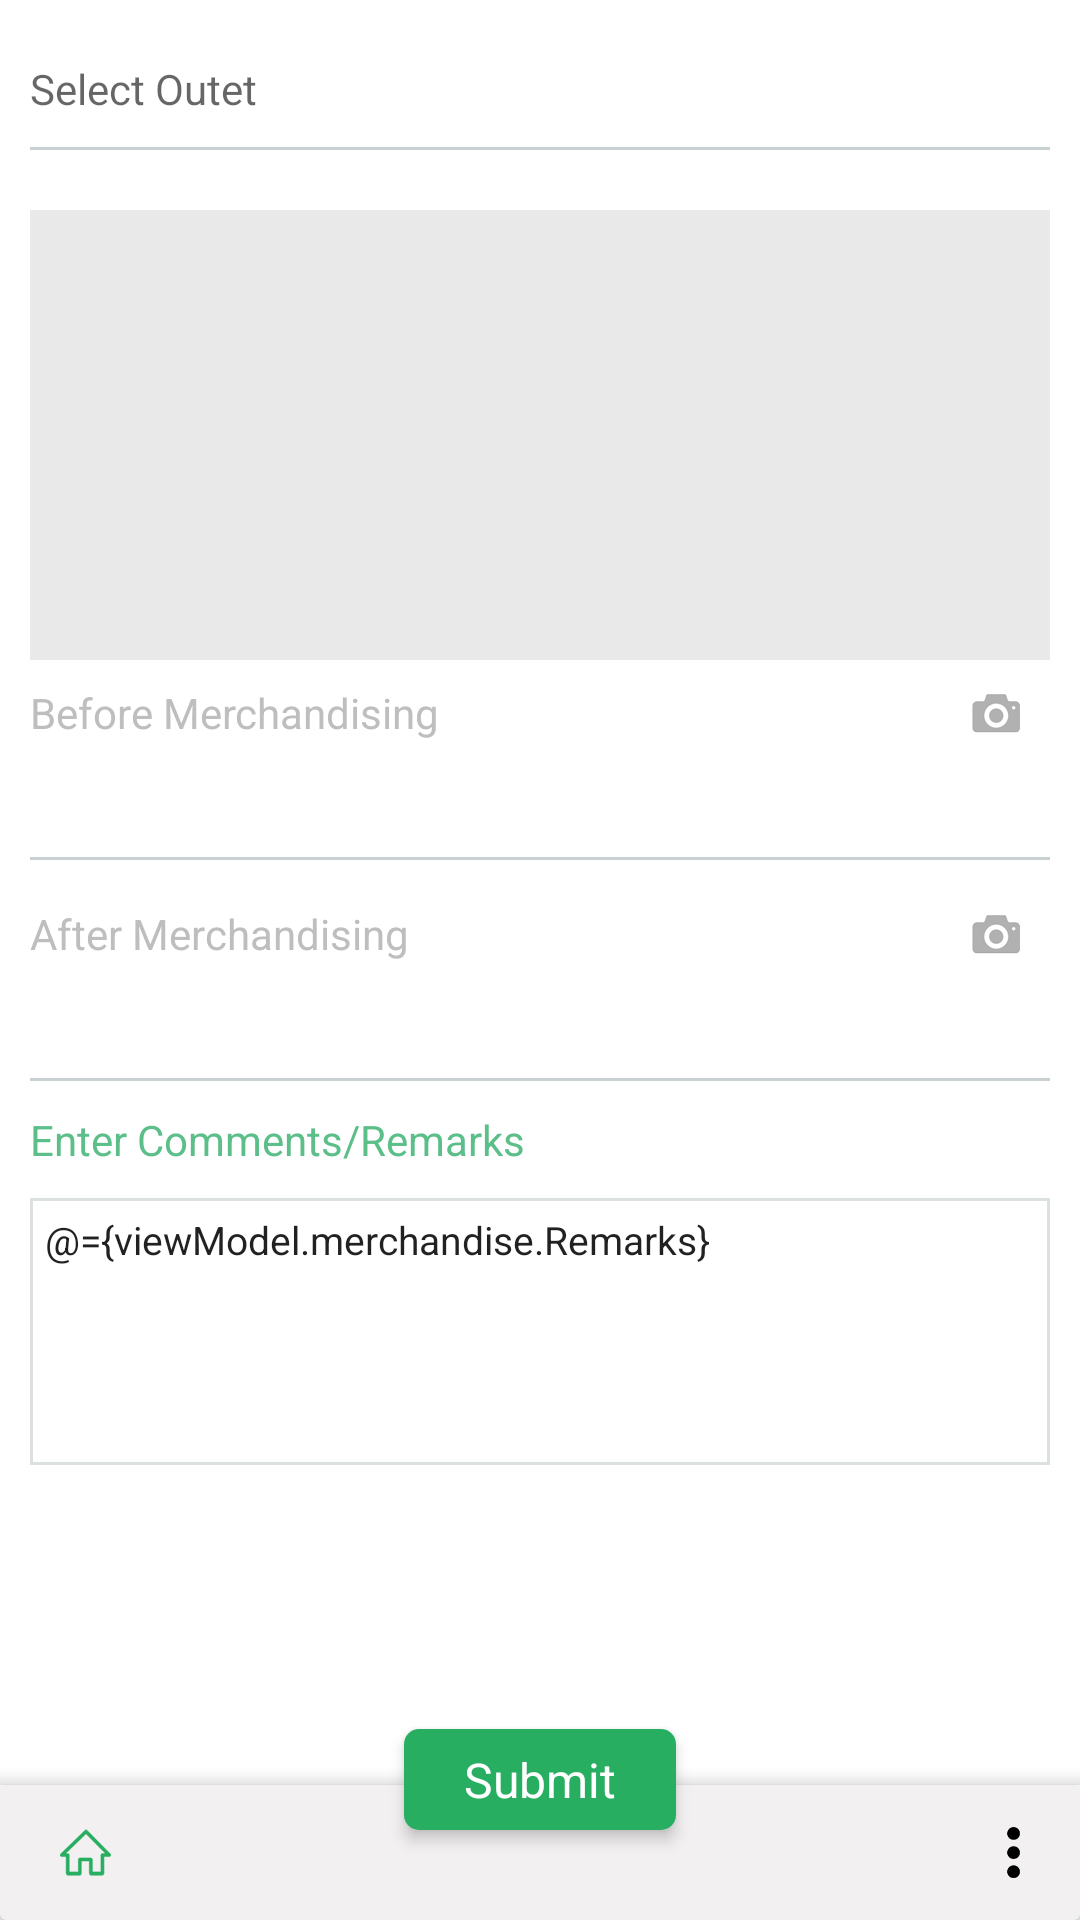

Named icons in this screenshot (1080px×1920px) and their bounding boxes, Rect(x1, y1, x2, y2):
camera: Rect(972, 694, 1020, 732), Rect(972, 915, 1020, 953)
home: Rect(60, 1829, 111, 1876)
overflow: Rect(1007, 1827, 1020, 1878)
